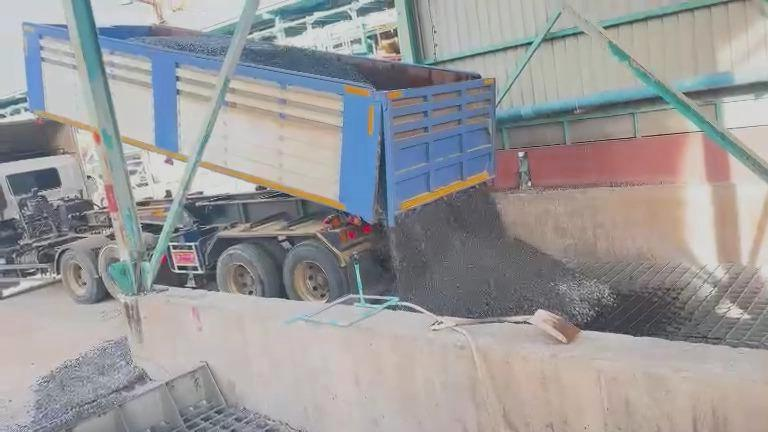gravel: (389, 186, 614, 323), (1, 338, 151, 430), (241, 41, 372, 85), (130, 37, 231, 58)
